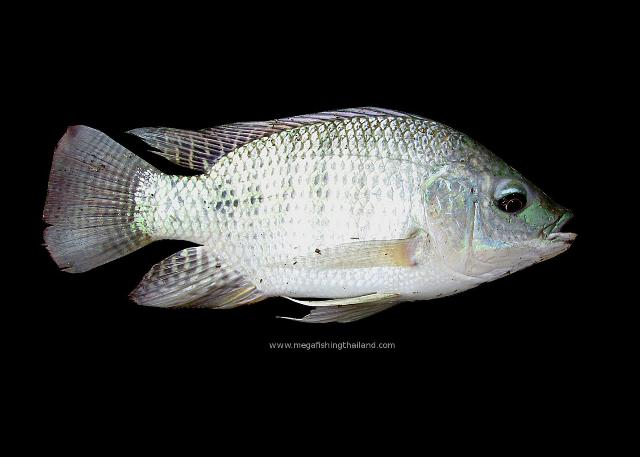Mulut: (508, 194, 596, 274)
Sirip Anal: (123, 239, 264, 327)
Sirip Dada: (269, 223, 435, 282)
Sirip Ekor: (32, 111, 156, 289)
Sirip Perut: (270, 282, 418, 338)
Sirip Punggung: (124, 92, 420, 190)
